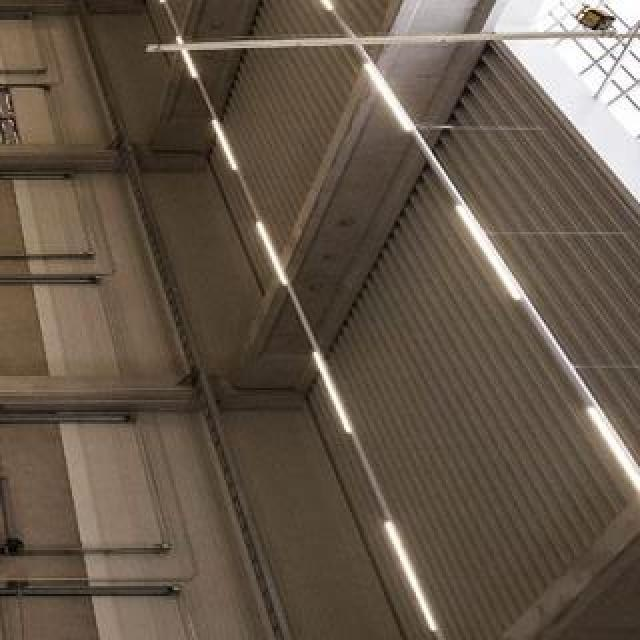fluorescent tube: (438, 197, 527, 301), (373, 519, 447, 634), (574, 402, 640, 487), (355, 62, 422, 136), (301, 350, 359, 435), (247, 221, 298, 291), (206, 113, 242, 171), (170, 32, 205, 82), (290, 0, 342, 14), (142, 0, 168, 6)
